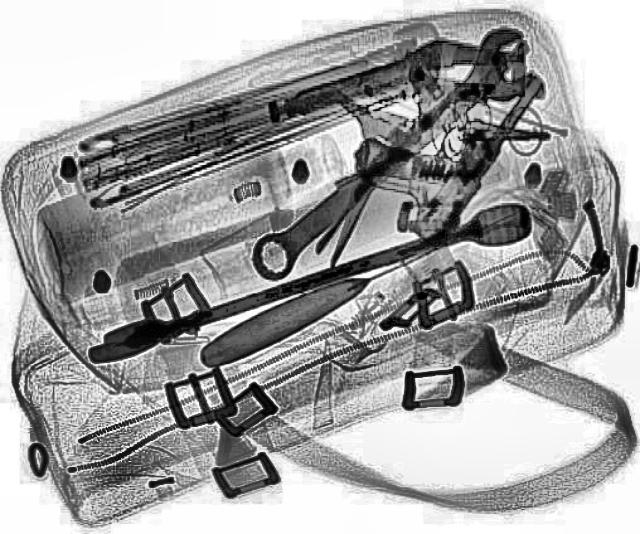Gun: (326, 37, 544, 240)
Knife: (190, 192, 534, 370)
Wrench: (226, 20, 562, 292)
